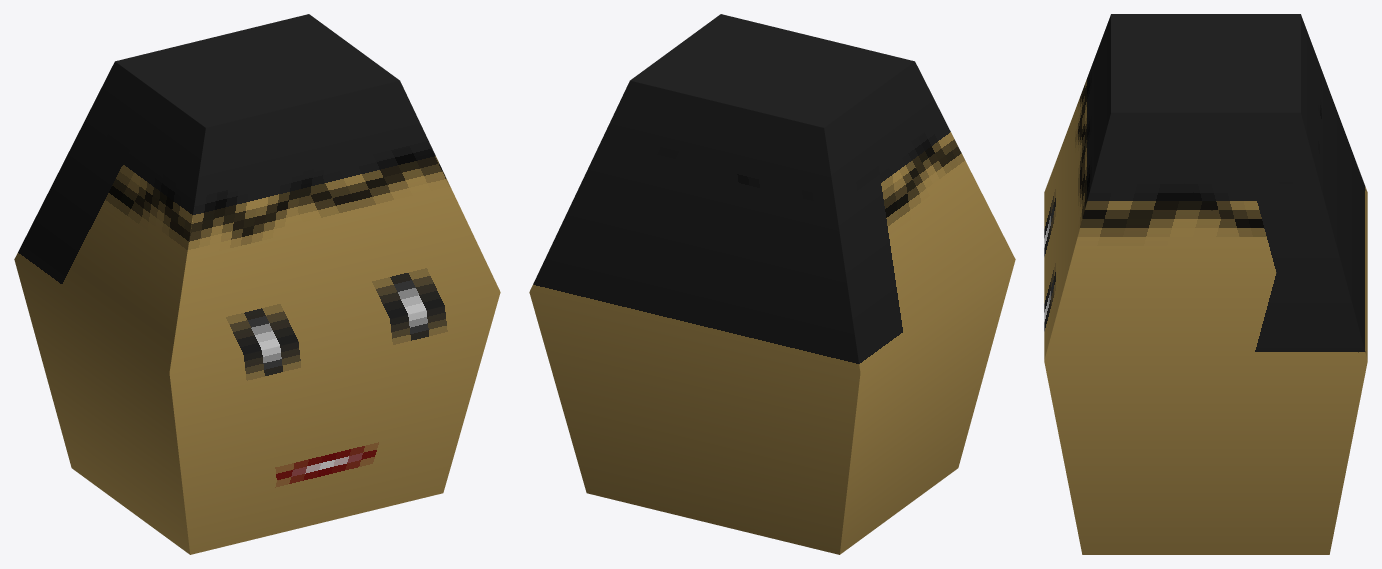
Rendered from C_GH_Head_M2.FBX.
The picture shows the model from 3 angles, left to right: view 1: azimuth 30°, elevation 25°; view 2: azimuth 150°, elevation 25°; view 3: azimuth 270°, elevation 25°; orthographic projection. The views are drawn at different scales.
Parts seen in each view (by area): view 1: Box001; view 2: Box001; view 3: Box001.
Part boxes in pixels (x1,y1,x2,y2): Box001: [14, 14, 500, 554]; Box001: [529, 14, 1015, 554]; Box001: [1044, 14, 1367, 554].
Bounding box in the file's own units: 23.66 × 27.98 × 19.21.
